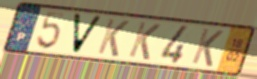4: (158, 24, 193, 66)
5: (34, 10, 68, 51)
K: (189, 27, 226, 69), (126, 20, 163, 62), (95, 17, 131, 59)
V: (72, 12, 105, 56)
